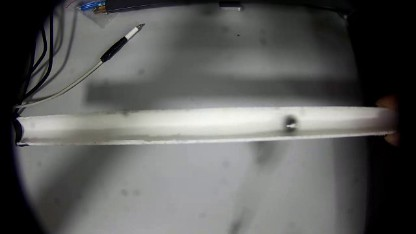gangzhu: (280, 114, 299, 134)
